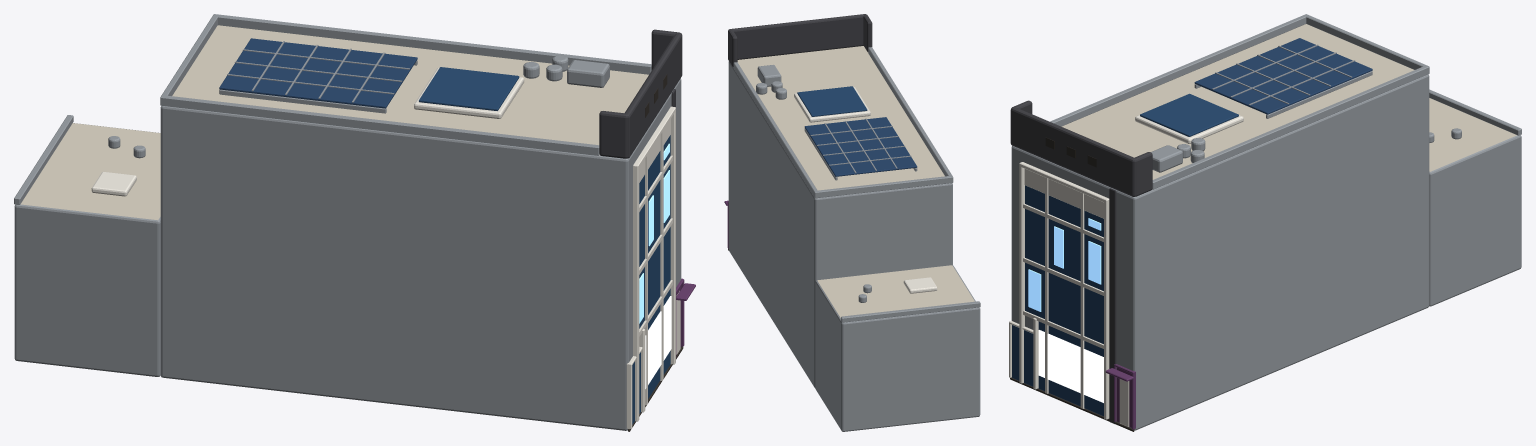
File: 46-south-park.glb
The picture shows the model from 3 angles, left to right: view 1: azimuth 30°, elevation 25°; view 2: azimuth 150°, elevation 25°; view 3: azimuth 270°, elevation 25°; orthographic projection. The views are drawn at different scales.
Parts seen in each view (by area): view 1: body_main, body_rear, pv_panels, parapet_sw, parapet_ne, skylight_glass, front_screen, glass_upper, frame_sw, gf_glow, frame_ne, screen_return_sw (+8 smaller); view 2: body_main, body_rear, pv_panels, front_screen, skylight_glass, parapet_rear, parapet_ne, parapet_sw, rear_upstand, skylight_kerb, rear_hatch, roof_mech (+2 smaller); view 3: body_main, body_rear, glass_upper, pv_panels, front_screen, parapet_ne, gf_glow, parapet_sw, skylight_glass, front_pier, glass_ground, frame_ne (+15 smaller).
Part boxes in pixels (x1,y1,x2,y2): body_main: [160, 25, 681, 430]; body_rear: [14, 123, 160, 376]; pv_panels: [219, 38, 417, 108]; parapet_sw: [160, 95, 599, 155]; parapet_ne: [213, 14, 651, 74]; skylight_glass: [419, 67, 519, 110]; front_screen: [624, 32, 682, 158]; glass_upper: [639, 135, 670, 328]; frame_sw: [633, 166, 639, 421]; gf_glow: [645, 296, 671, 388]; frame_ne: [670, 107, 675, 364]; screen_return_sw: [599, 111, 627, 158]; body_main: [728, 46, 952, 387]; body_rear: [815, 265, 980, 431]; pv_panels: [804, 117, 917, 176]; front_screen: [729, 14, 865, 59]; skylight_glass: [797, 86, 867, 116]; parapet_rear: [814, 175, 953, 197]; parapet_ne: [733, 62, 817, 198]; parapet_sw: [868, 47, 952, 182]; rear_upstand: [841, 301, 980, 322]; skylight_kerb: [794, 86, 870, 122]; rear_hatch: [903, 277, 937, 293]; roof_mech: [757, 65, 781, 86]; body_main: [1011, 24, 1429, 430]; body_rear: [1429, 98, 1521, 306]; glass_upper: [1025, 185, 1103, 344]; pv_panels: [1194, 38, 1372, 114]; front_screen: [1010, 107, 1134, 196]; parapet_ne: [1152, 66, 1429, 189]; gf_glow: [1038, 330, 1103, 402]; parapet_sw: [1050, 14, 1307, 126]; skylight_glass: [1140, 93, 1238, 136]; front_pier: [1109, 188, 1116, 424]; glass_ground: [1038, 321, 1103, 416]; frame_ne: [1104, 199, 1109, 419].
Size of the model in its own units: 27.93 by 16.15 by 27.62.
